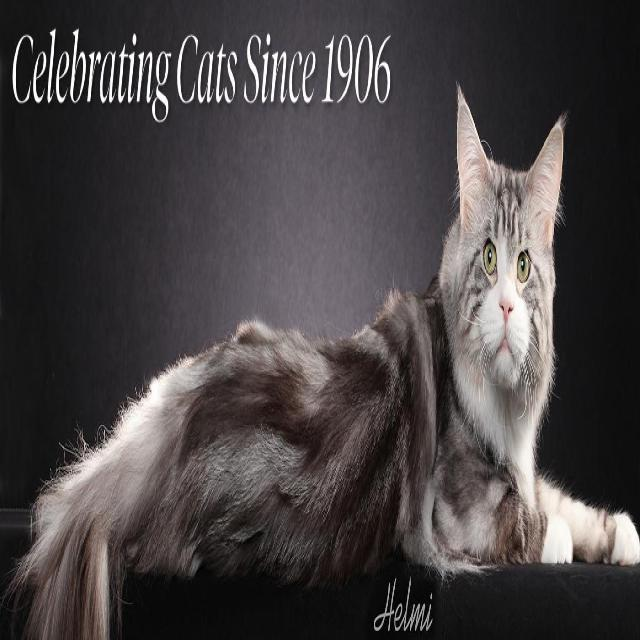Cat: (452, 73, 567, 440)
